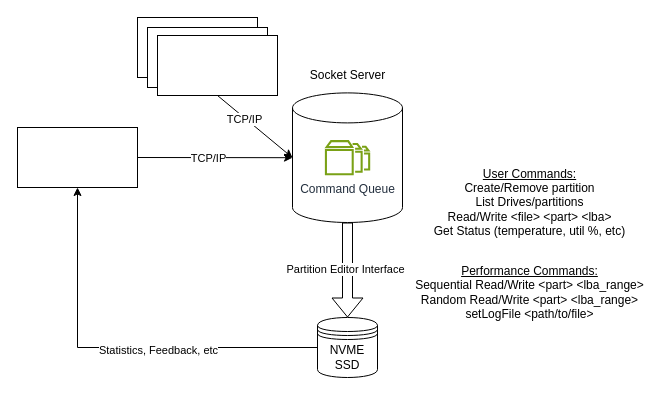
Image size: 670x395. Some labels were removed from this diagram. Here are the shapes that lost their labels. From the top down, the box of each, then its label:
(156, 34, 278, 96): Clients
(16, 126, 138, 188): Command Line Interface
